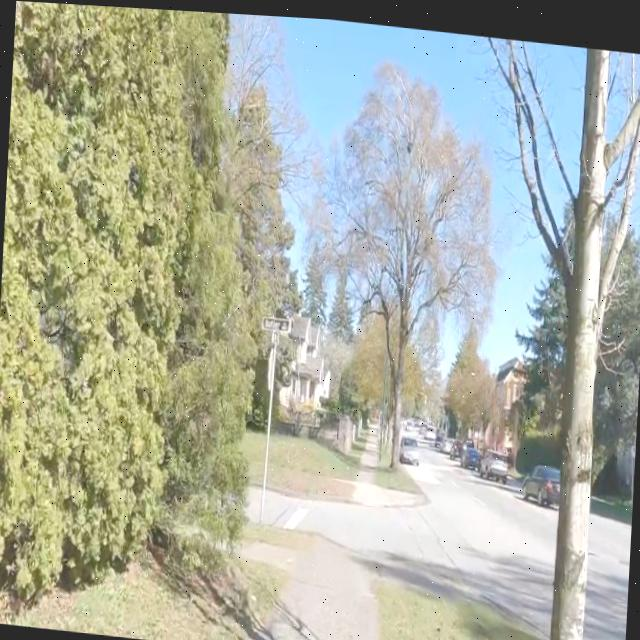Automobile: (524, 458, 558, 498), (480, 445, 506, 476), (400, 432, 417, 460), (460, 436, 479, 461)
Road: (265, 445, 558, 627), (586, 507, 631, 640)
Sidewalk: (280, 535, 380, 640), (342, 477, 417, 502), (265, 604, 313, 640), (352, 419, 378, 481), (239, 539, 295, 567)
